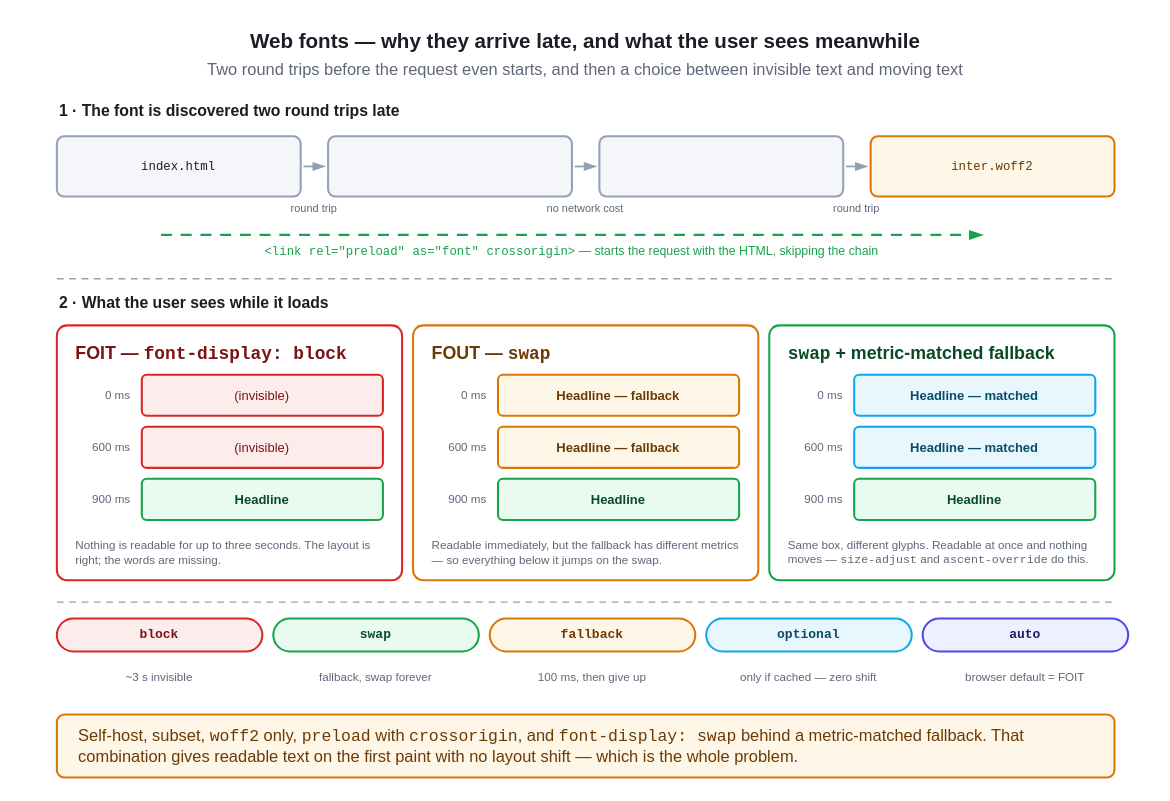
This 1170x801 diagram has some shape labels left out. Here are the shapes that lost their labels. From the top down, the centre of each, then its label:
(449,166): app.css
(721,166): parse CSS, match @font-face
